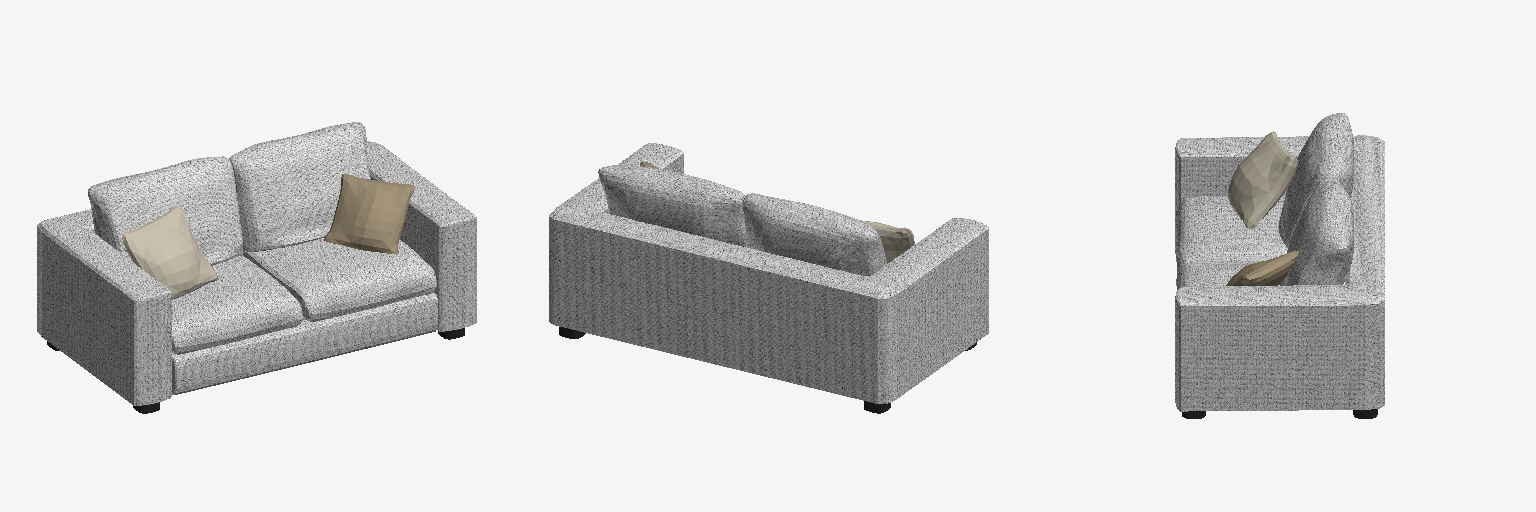
3 renders of one model, left to right at view 1: azimuth 30°, elevation 25°; view 2: azimuth 150°, elevation 25°; view 3: azimuth 270°, elevation 25°, orthographic.
Visible parts, largest first — view 1: back_Plane.005, bigcushion2.002_Cube.024, base_Cube.021, bigcushion2_Cube.022, base_big_cushion2_Cube.001, base_big_cushion_Cube, cushion_dark_Cube.018, cushion_clear_Cube.019; view 2: back_Plane.005, bigcushion2.002_Cube.024, bigcushion2_Cube.022, cushion_clear_Cube.019; view 3: back_Plane.005, base_big_cushion_Cube, bigcushion2.002_Cube.024, bigcushion2_Cube.022, cushion_clear_Cube.019, base_big_cushion2_Cube.001, cushion_dark_Cube.018.
Part boxes in pixels (x1,y1,x2,y2): back_Plane.005: (37, 141, 476, 405); bigcushion2.002_Cube.024: (229, 122, 370, 251); base_Cube.021: (172, 292, 437, 394); bigcushion2_Cube.022: (88, 156, 243, 265); base_big_cushion2_Cube.001: (243, 238, 436, 321); base_big_cushion_Cube: (172, 255, 302, 354); cushion_dark_Cube.018: (324, 174, 414, 253); cushion_clear_Cube.019: (122, 204, 218, 299); back_Plane.005: (549, 143, 988, 403); bigcushion2.002_Cube.024: (598, 165, 749, 247); bigcushion2_Cube.022: (742, 193, 886, 275); cushion_clear_Cube.019: (860, 220, 914, 263); back_Plane.005: (1175, 135, 1384, 411); base_big_cushion_Cube: (1176, 195, 1287, 274); bigcushion2.002_Cube.024: (1280, 177, 1353, 285); bigcushion2_Cube.022: (1279, 113, 1353, 247); cushion_clear_Cube.019: (1228, 131, 1297, 228); base_big_cushion2_Cube.001: (1176, 261, 1279, 289); cushion_dark_Cube.018: (1226, 251, 1298, 285).
Bounding box in the file's own units: 1.7 × 0.7972 × 0.8996.
4 materials, 1 textured.